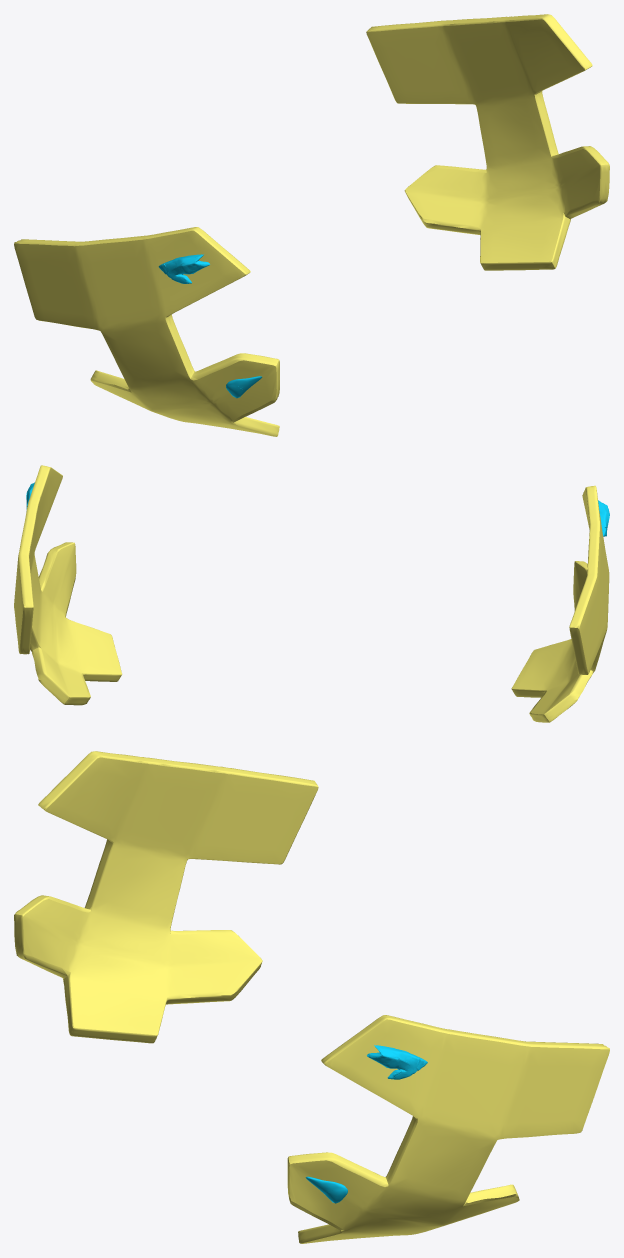
The picture shows the model from 3 angles, top to bottom: view 1: azimuth 30°, elevation 25°; view 2: azimuth 150°, elevation 25°; view 3: azimuth 270°, elevation 25°; orthographic projection. The views are drawn at different scales.
Parts seen in each view (by area): view 1: side_face01, crystals_009; view 2: side_face01, crystals_009; view 3: side_face01, crystals_009.
Boxes of the visible parts, box(x1,y1,x2,y2) form: side_face01: box(14, 14, 609, 436); crystals_009: box(158, 254, 262, 398); side_face01: box(14, 465, 609, 722); crystals_009: box(26, 482, 609, 536); side_face01: box(14, 751, 609, 1243); crystals_009: box(305, 1045, 427, 1203).
Size of the model in its own units: 106 by 83.28 by 39.85.
